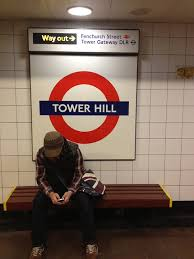London Underground: (40, 73, 129, 142)
